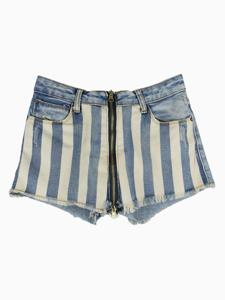C_shorts: (3, 73, 221, 229)
